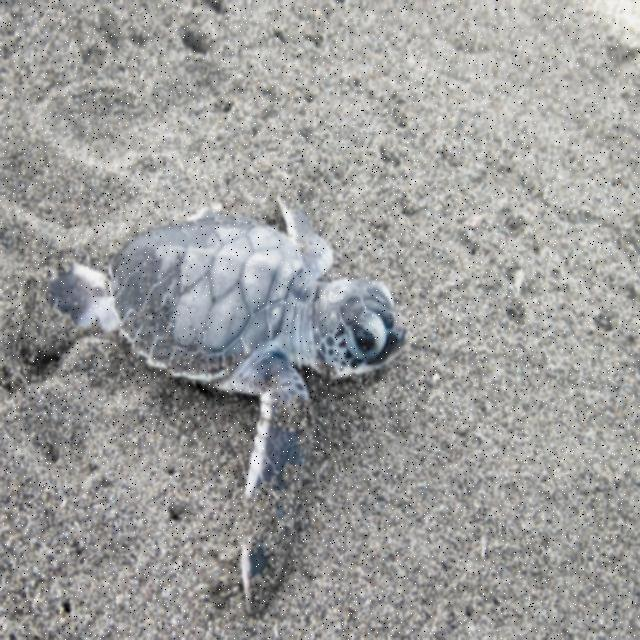tortoise: (35, 196, 409, 610)
